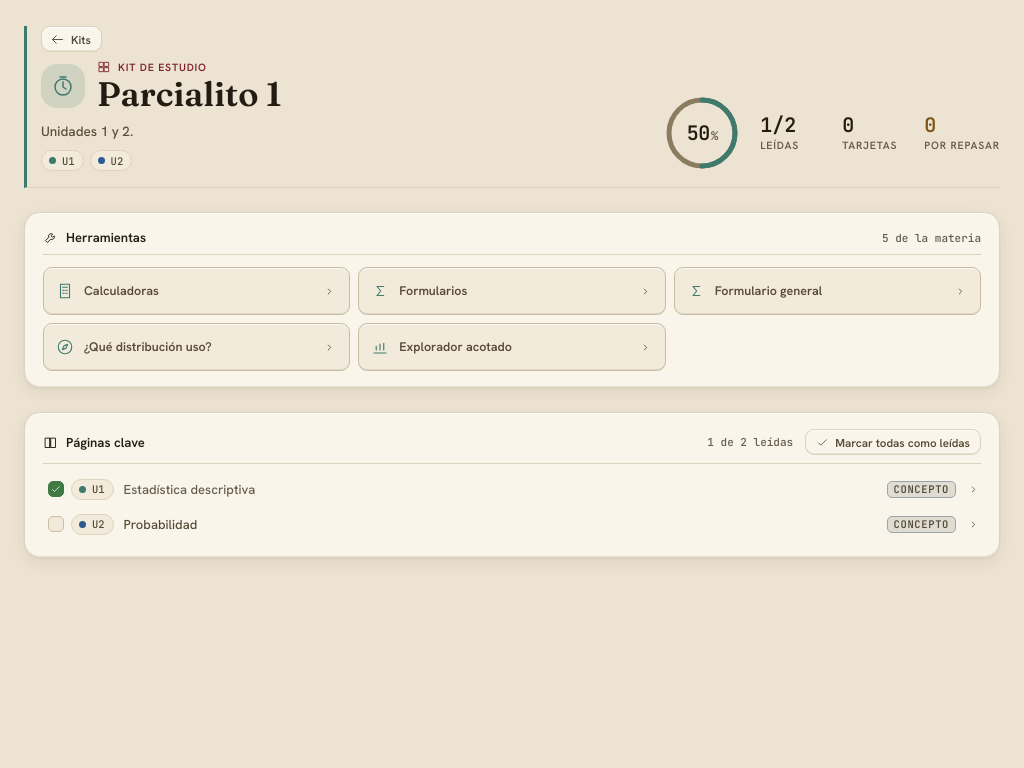
Test: <KitView/> › tilda una página desde el kit con la mutación del lector
Click the button named "Marcar como leída: Probabilidad" at (56,524), box x1=43 y1=511 x2=69 y2=537
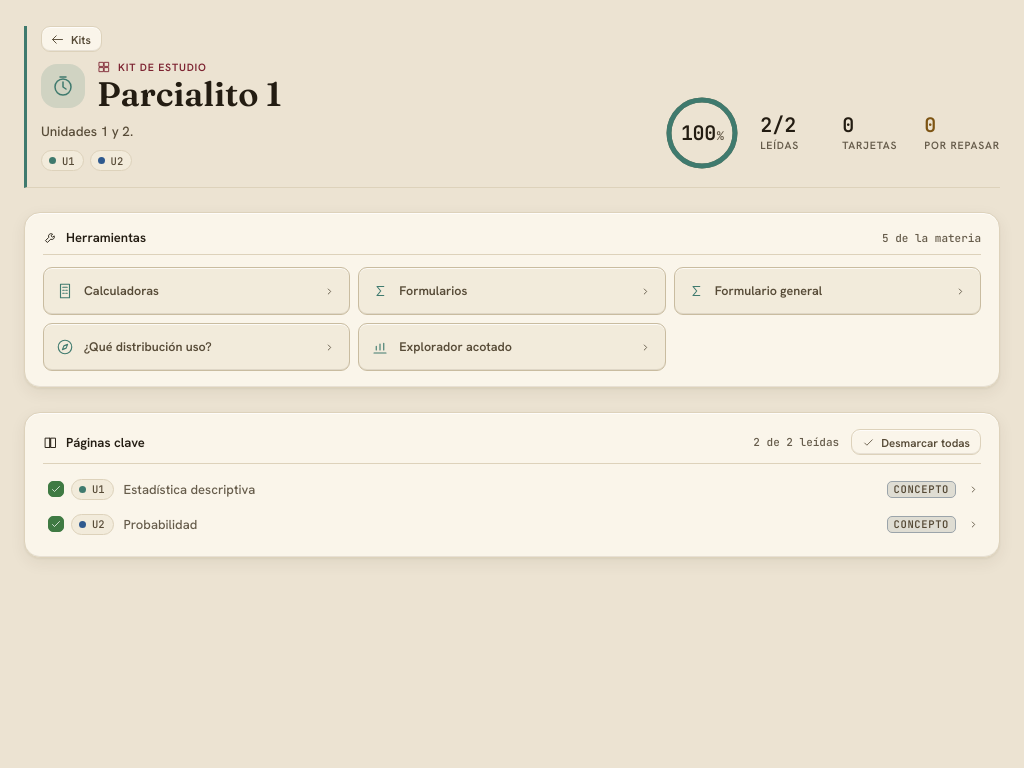
Expected: the text "2 de 2 leídas" is shown, x1=753 y1=435 x2=839 y2=449
